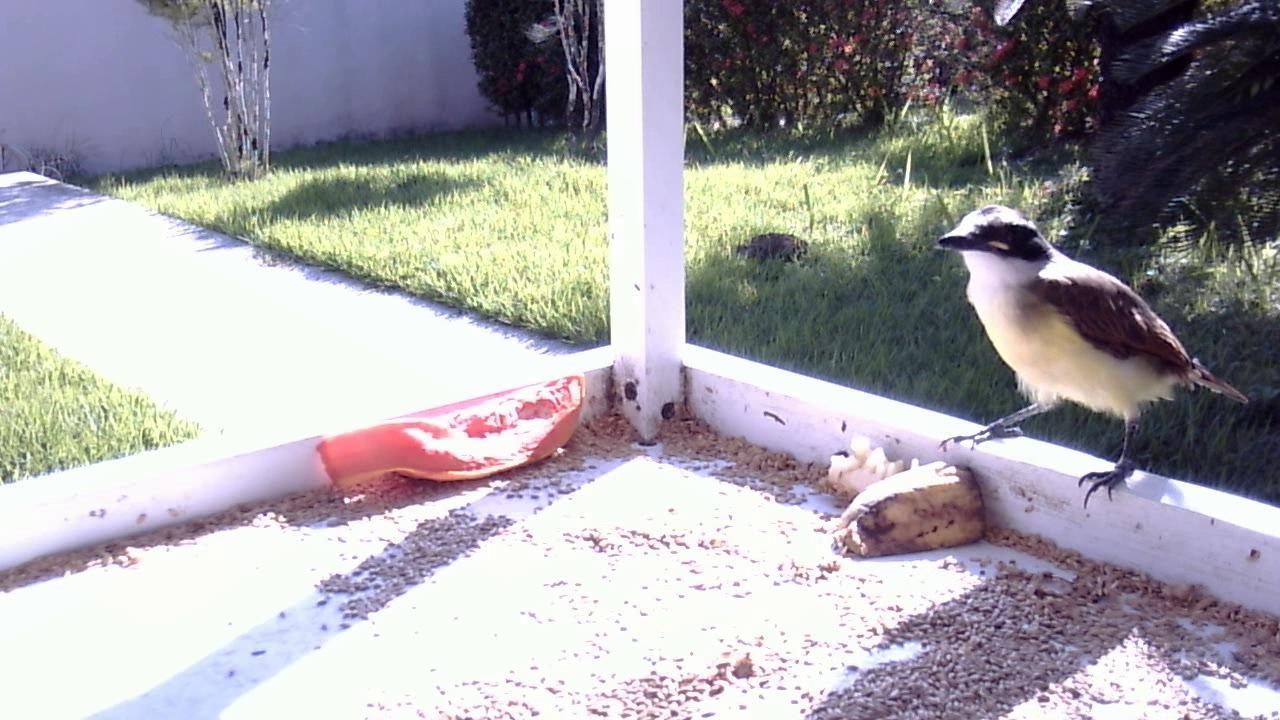bem_te_vi: (920, 198, 1255, 518)
